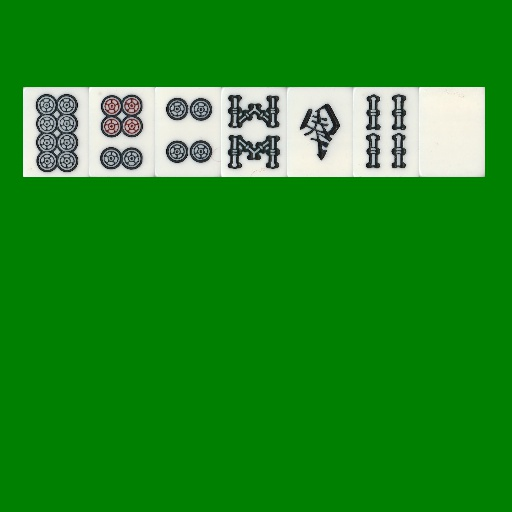4p: (155, 87, 221, 177)
4s: (353, 87, 419, 177)
6p: (89, 87, 155, 177)
8p: (23, 87, 89, 177)
8s: (221, 87, 287, 177)
south: (287, 87, 353, 177)
white: (419, 87, 485, 177)
